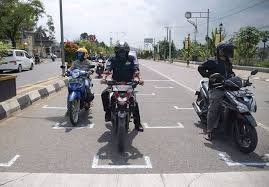motor: (195, 78, 263, 153), (101, 80, 142, 153), (62, 70, 94, 122)
